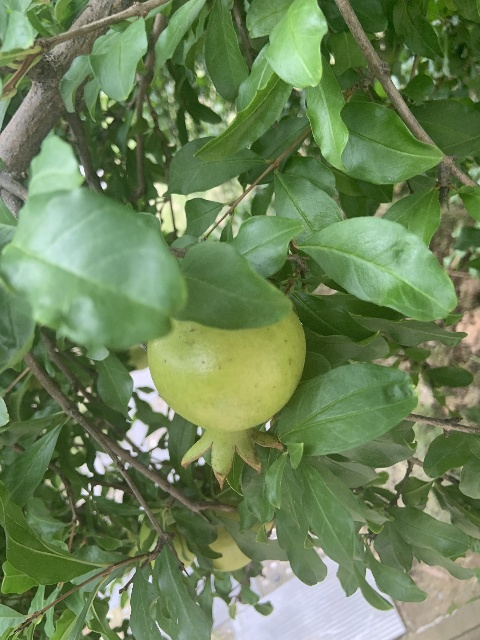mid-growth: (147, 309, 306, 489)
